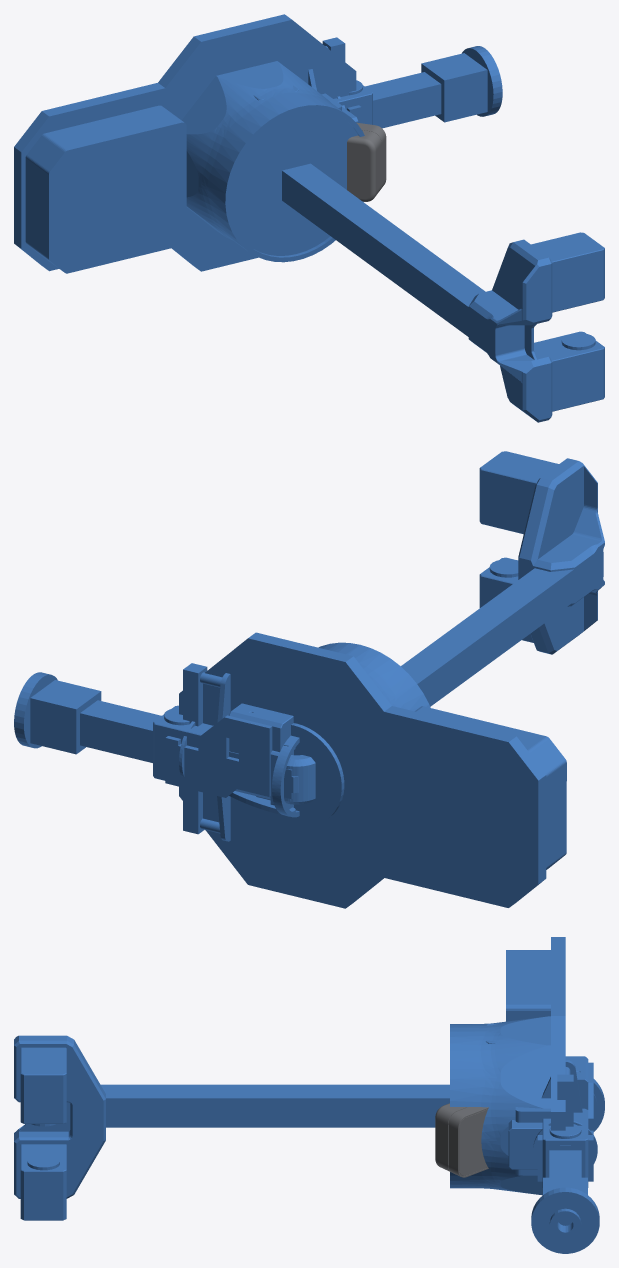
The model's file is arm.glb.
3 views of the same model, one above another, from view 1: azimuth 30°, elevation 25°; view 2: azimuth 150°, elevation 25°; view 3: azimuth 270°, elevation 25° (orthographic). The views are drawn at different scales.
Visible parts, largest first — view 1: b1, b3, b4, b7, b5; view 2: b1, b3, b5, b4, b2, b7, b6; view 3: b3, b1, b4, b7, b5, b6.
Boxes of the visible parts, bbox=[...] form: b1: bbox=[14, 14, 364, 273]; b3: bbox=[282, 163, 604, 422]; b4: bbox=[365, 46, 502, 128]; b7: bbox=[308, 37, 386, 201]; b5: bbox=[333, 80, 372, 124]; b1: bbox=[179, 632, 566, 908]; b3: bbox=[285, 451, 604, 804]; b5: bbox=[153, 703, 299, 817]; b4: bbox=[14, 672, 315, 804]; b2: bbox=[230, 689, 373, 857]; b7: bbox=[183, 663, 293, 841]; b6: bbox=[179, 721, 295, 816]; b3: bbox=[14, 1035, 449, 1220]; b1: bbox=[450, 937, 565, 1195]; b4: bbox=[531, 1150, 599, 1253]; b7: bbox=[435, 1060, 597, 1177]; b5: bbox=[537, 1056, 604, 1187]; b6: bbox=[508, 1107, 597, 1175].
Size of the model in its own units: 0.332 by 0.1531 by 0.3666.
